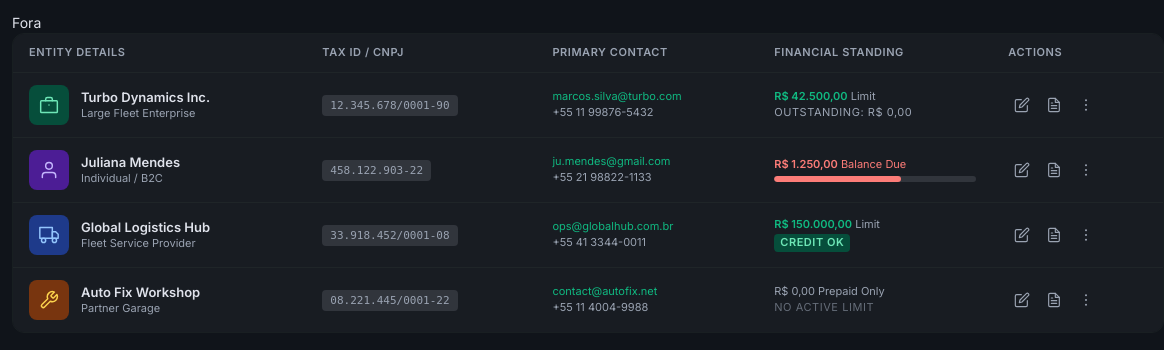
EntityTable — 3.4 Coluna Actions › clicar fora do dropdown o fecha
The width and height of the screenshot is (1164, 350).
Click the button named "mais opções" in the row of "Turbo Dynamics Inc.": [1086, 105] box [1072,91,1100,119]
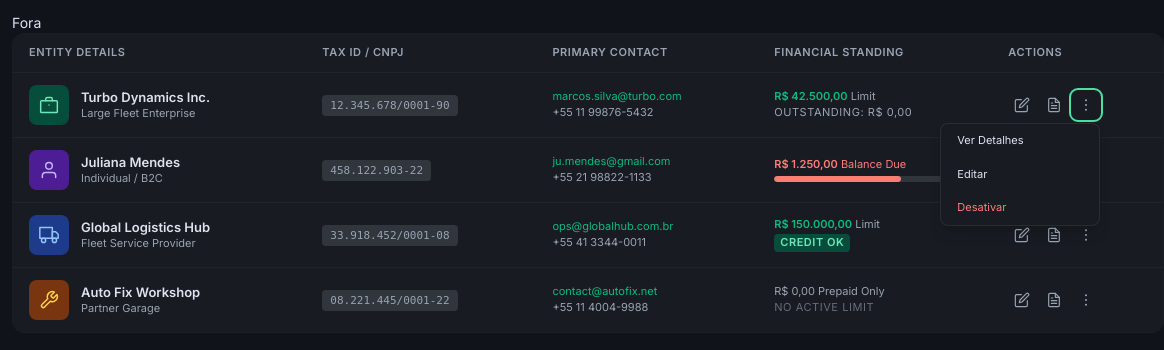
expect the menu is shown: met, box [940,123,1100,226]
Click the text "Fora": [27, 22] box [12,14,41,31]
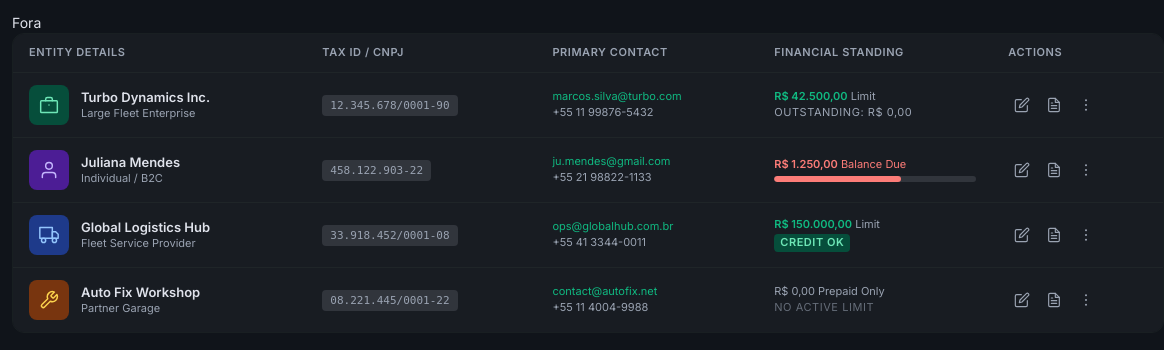
expect the menu is gone: met
